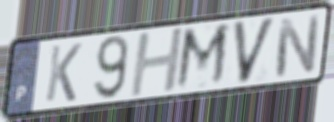9: (90, 34, 131, 102)
H: (127, 25, 187, 100)
K: (43, 41, 84, 104)
M: (173, 21, 233, 93)
N: (273, 13, 322, 80)
V: (230, 14, 278, 87)
